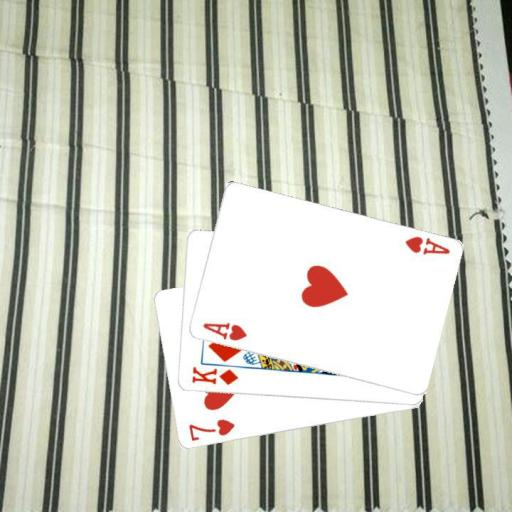7H: (185, 416, 236, 443)
AH: (199, 319, 248, 343), (402, 233, 451, 257)
KD: (188, 364, 240, 387)
